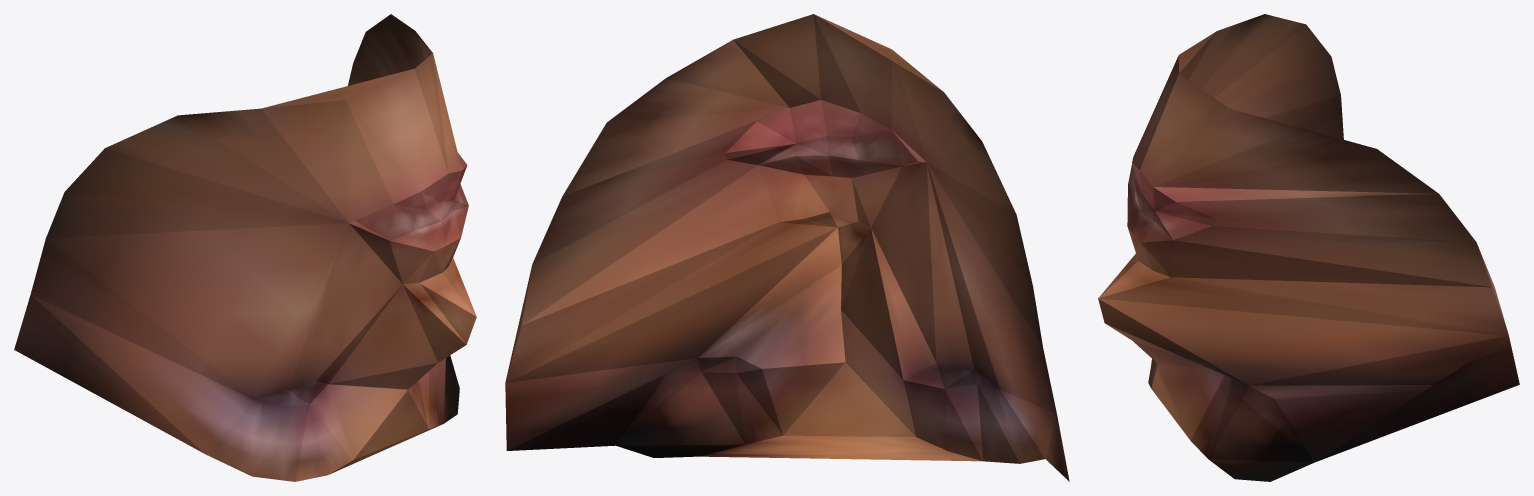
The model's file is fake_44330.obj.
3 views of the same model, side by side, from view 1: azimuth 30°, elevation 25°; view 2: azimuth 150°, elevation 25°; view 3: azimuth 270°, elevation 25° (orthographic). The views are drawn at different scales.
Size of the model in its own units: 121 by 107 by 110.
